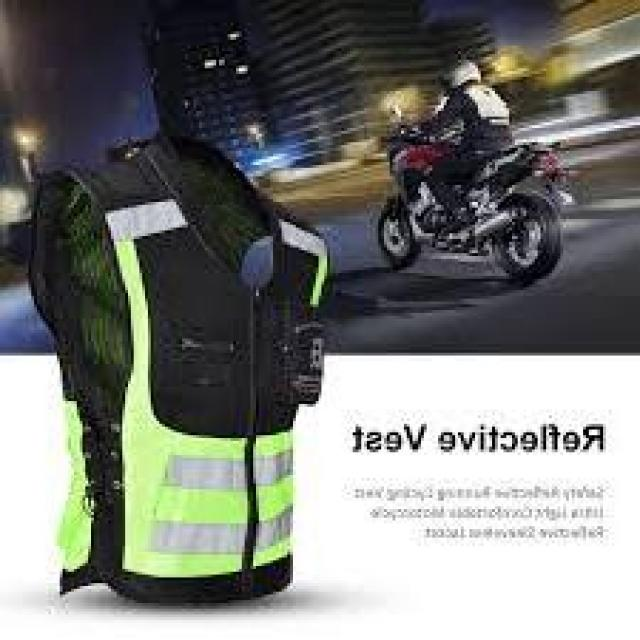Reflective-Jacket: (3, 117, 344, 623)
Safety-Helmet: (441, 54, 489, 94)
